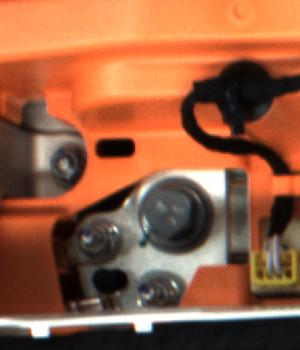nut_b: (135, 173, 222, 258)
screw_s: (133, 273, 178, 306), (46, 147, 81, 181), (77, 225, 110, 260)
